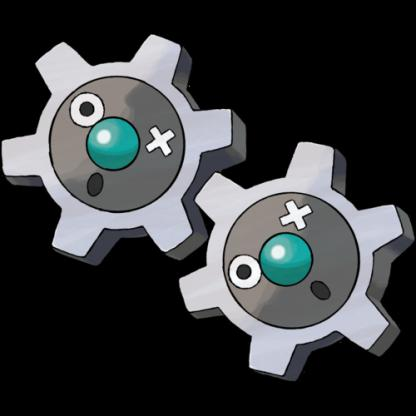FOD: (177, 137, 415, 387), (0, 34, 247, 266)
